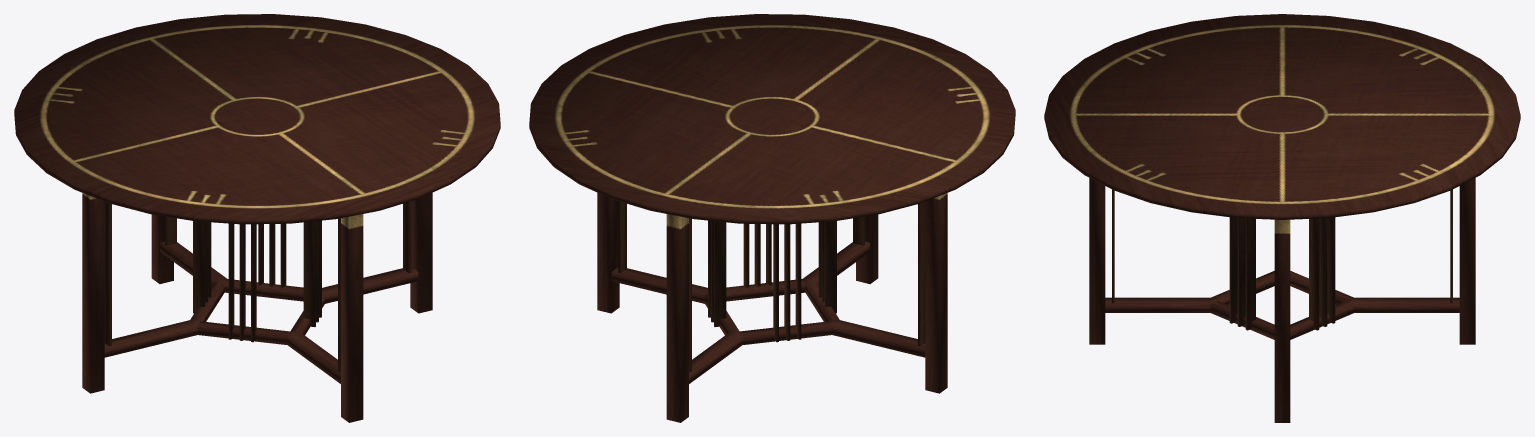
3 views of the same model, side by side, from view 1: azimuth 30°, elevation 25°; view 2: azimuth 150°, elevation 25°; view 3: azimuth 270°, elevation 25° (orthographic). The views are drawn at different scales.
Parts seen in each view (by area): view 1: Geode; view 2: Geode; view 3: Geode.
Part boxes in pixels (x1,y1,x2,y2): Geode: [14, 14, 500, 422]; Geode: [529, 14, 1015, 422]; Geode: [1044, 14, 1520, 422].
Size of the model in its own units: 2 by 1.05 by 2.
Materials: 1 (1 with a texture image).
